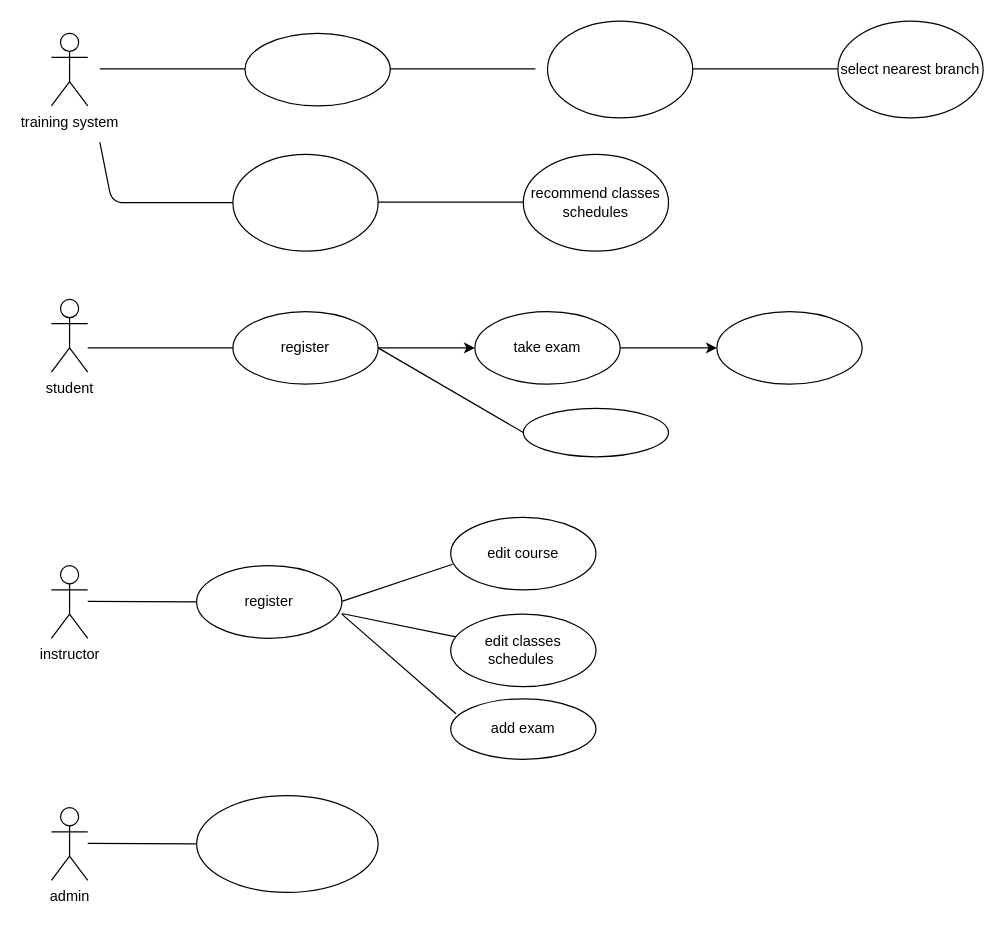
Some shapes in this 1004 by 927 pixel diagram are drawn without their labels. The shapes that lost their labels are listed below. From the top down, each one's box as (x1, y1, x2, y2) in pixels, then its label:
(244, 32, 390, 106): examine students
(546, 20, 693, 118): assign students to course level
(232, 153, 378, 251): check availability of each classes
(716, 310, 862, 384): start course
(522, 407, 669, 457): view schedule
(195, 794, 378, 892): access students and instructors information
